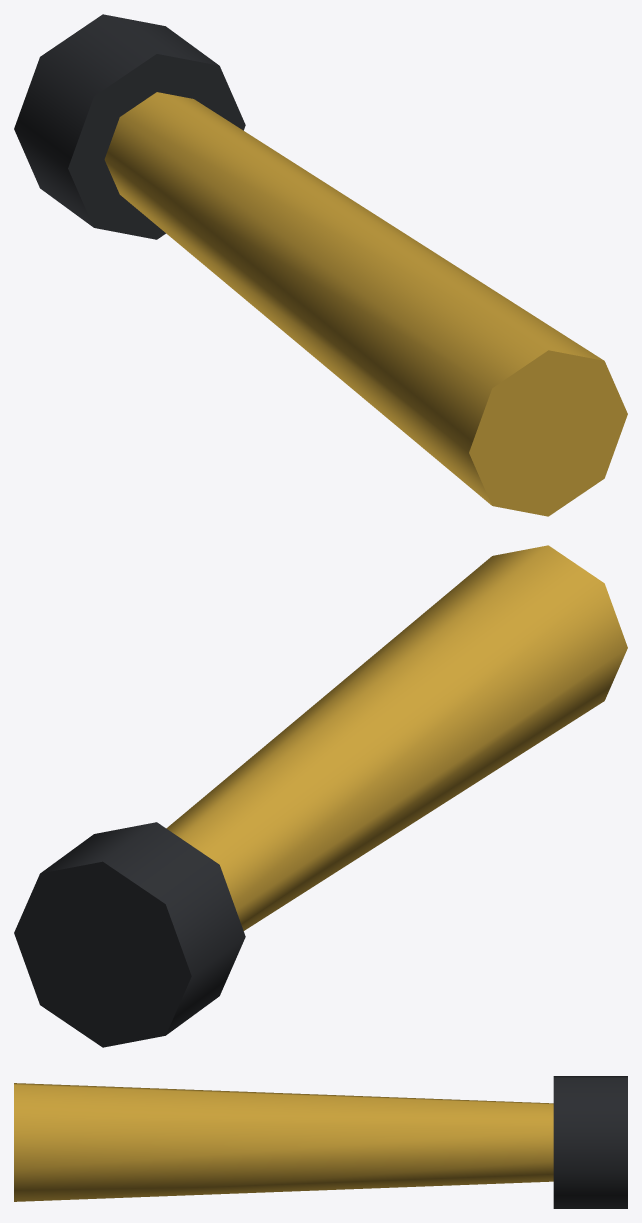
The model's file is tool-spyglass.glb.
The picture shows the model from 3 angles, top to bottom: view 1: azimuth 30°, elevation 25°; view 2: azimuth 150°, elevation 25°; view 3: azimuth 270°, elevation 25°; orthographic projection. The views are drawn at different scales.
Visible parts, largest first — view 1: 00_#c9a13a_noshadow_r110, 01_#2a2c30_noshadow_r110; view 2: 00_#c9a13a_noshadow_r110, 01_#2a2c30_noshadow_r110; view 3: 00_#c9a13a_noshadow_r110, 01_#2a2c30_noshadow_r110.
Part boxes in pixels (left/top/right/bottom): 00_#c9a13a_noshadow_r110: left=104, top=92, right=627, bottom=516; 01_#2a2c30_noshadow_r110: left=14, top=14, right=245, bottom=239; 00_#c9a13a_noshadow_r110: left=166, top=545, right=627, bottom=930; 01_#2a2c30_noshadow_r110: left=14, top=822, right=245, bottom=1047; 00_#c9a13a_noshadow_r110: left=14, top=1083, right=553, bottom=1201; 01_#2a2c30_noshadow_r110: left=553, top=1076, right=627, bottom=1208.
Bounding box in the file's own units: 0.076 × 0.076 × 0.33.
